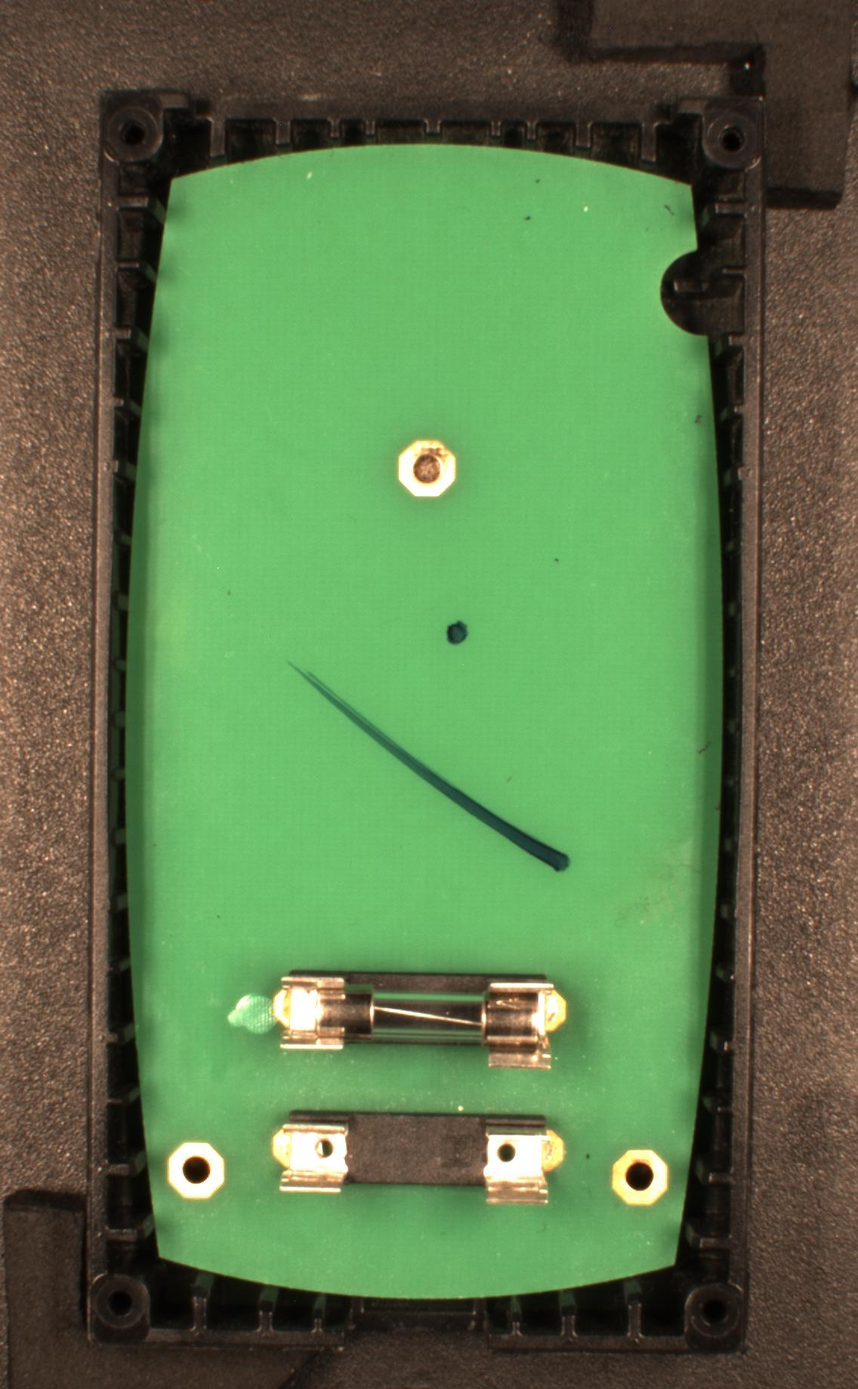Linijsko Ostecene: (287, 661, 573, 873)
Nepostojanje osiguraca: (271, 1107, 566, 1207)
Tockasto Ostecenje: (445, 618, 470, 645)
